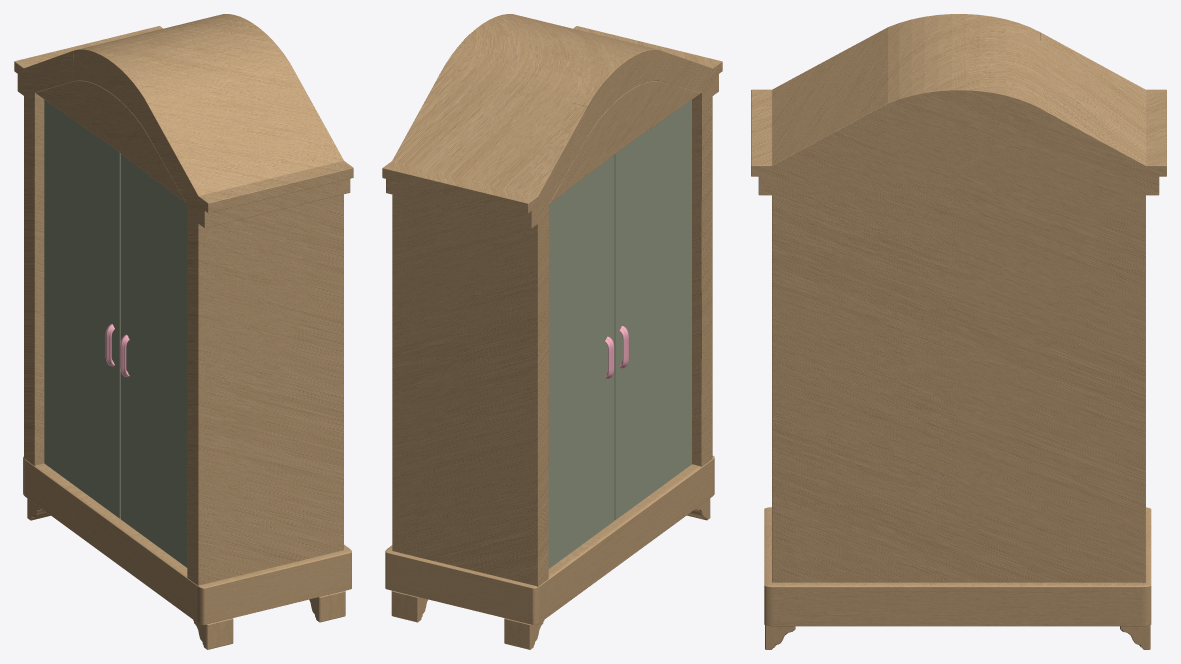
The model's file is Closet_Three.fbx.
The picture shows the model from 3 angles, left to right: view 1: azimuth 30°, elevation 25°; view 2: azimuth 150°, elevation 25°; view 3: azimuth 270°, elevation 25°; orthographic projection. The views are drawn at different scales.
Visible parts, largest first — view 1: C_Base2, Cube, Cube.001; view 2: C_Base2, Cube, Cube.001; view 3: C_Base2, Cube, Cube.001.
Part boxes in pixels (x1,y1,x2,y2): C_Base2: (14, 14, 353, 585); Cube: (23, 456, 351, 624); Cube.001: (27, 498, 345, 649); C_Base2: (382, 14, 722, 586); Cube: (385, 456, 714, 624); Cube.001: (391, 498, 710, 649); C_Base2: (751, 14, 1166, 582); Cube: (764, 507, 1151, 626); Cube.001: (765, 625, 1150, 649).
Size of the model in its own units: 177 by 389 by 579.
3 materials, 1 textured.
